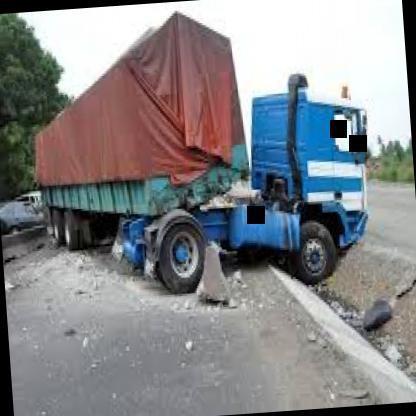accident: (161, 1, 410, 379)
